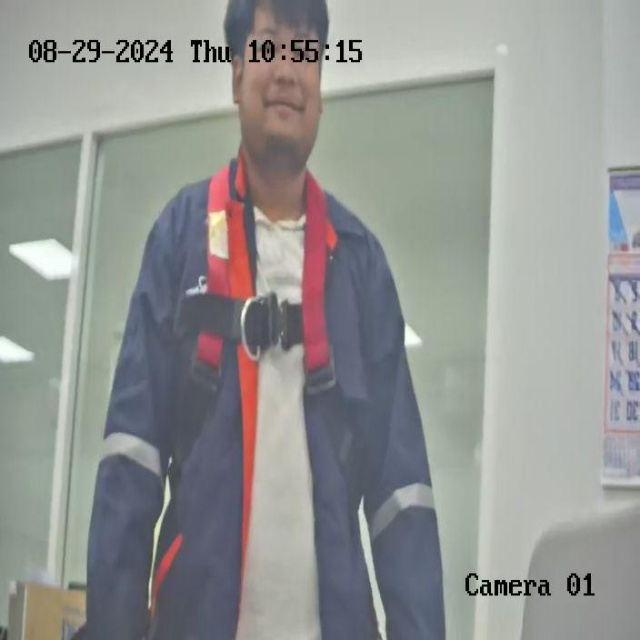Arnes_seguridad: (181, 153, 366, 499)
